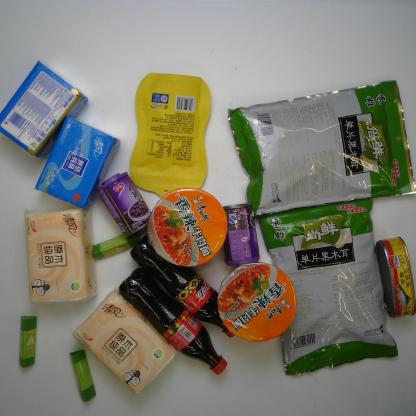Canned Food: (92, 169, 153, 241), (373, 233, 415, 322), (220, 200, 263, 270)
Dried Food: (224, 75, 415, 220), (257, 194, 402, 379)
Dried Fruit: (127, 70, 216, 200)
Drink: (117, 264, 230, 380), (128, 232, 237, 340)
Instant Noodles: (145, 182, 230, 269), (216, 258, 299, 344)
Stationery: (65, 347, 105, 407), (88, 228, 143, 264), (13, 313, 42, 371)
Tissue: (69, 286, 181, 398), (0, 59, 92, 163), (31, 112, 122, 212), (19, 205, 101, 306)
